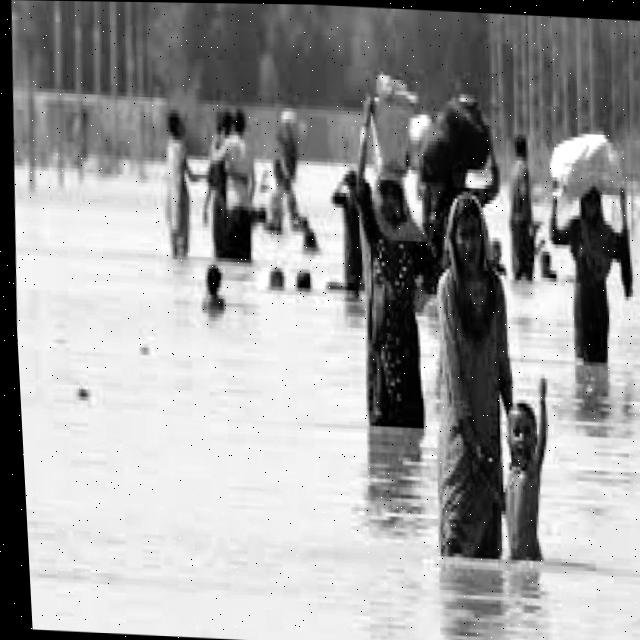civilian: (413, 183, 540, 595), (331, 141, 463, 442), (533, 128, 640, 409), (481, 371, 600, 583), (147, 90, 212, 263), (208, 101, 270, 273), (499, 120, 553, 289), (323, 157, 374, 294), (196, 82, 233, 220), (185, 249, 238, 329)
